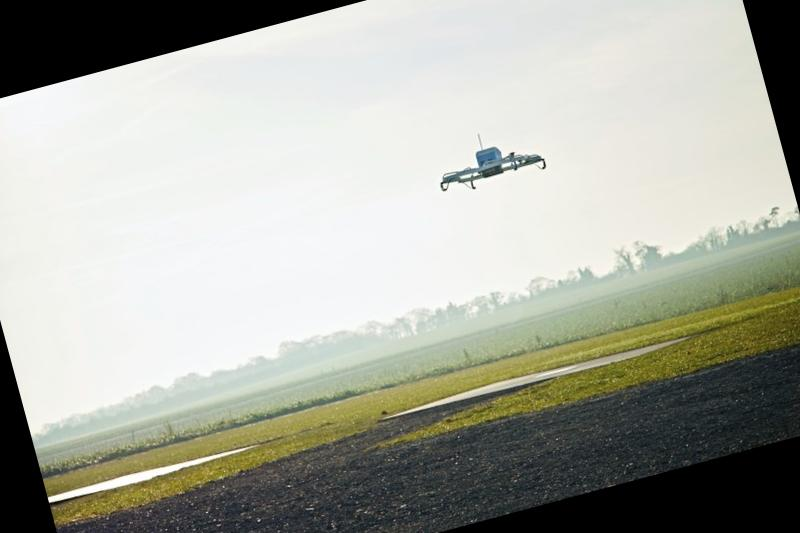drone: (421, 119, 561, 206)
